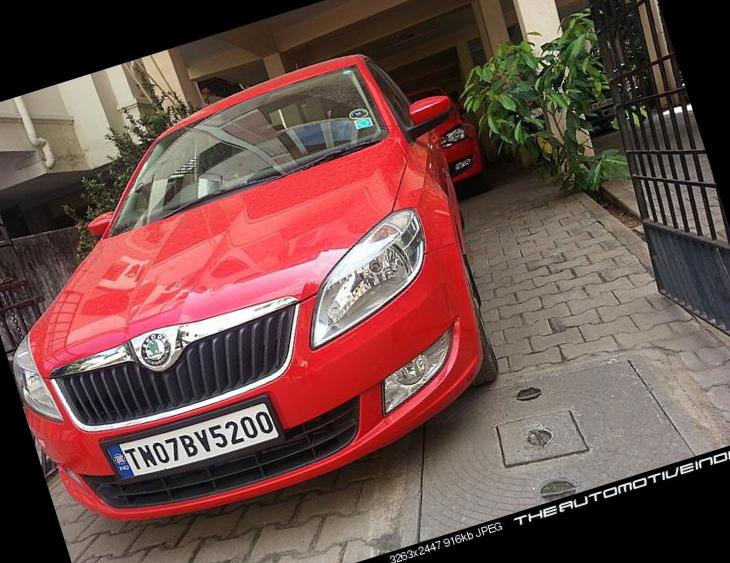plate: (80, 376, 307, 506)
